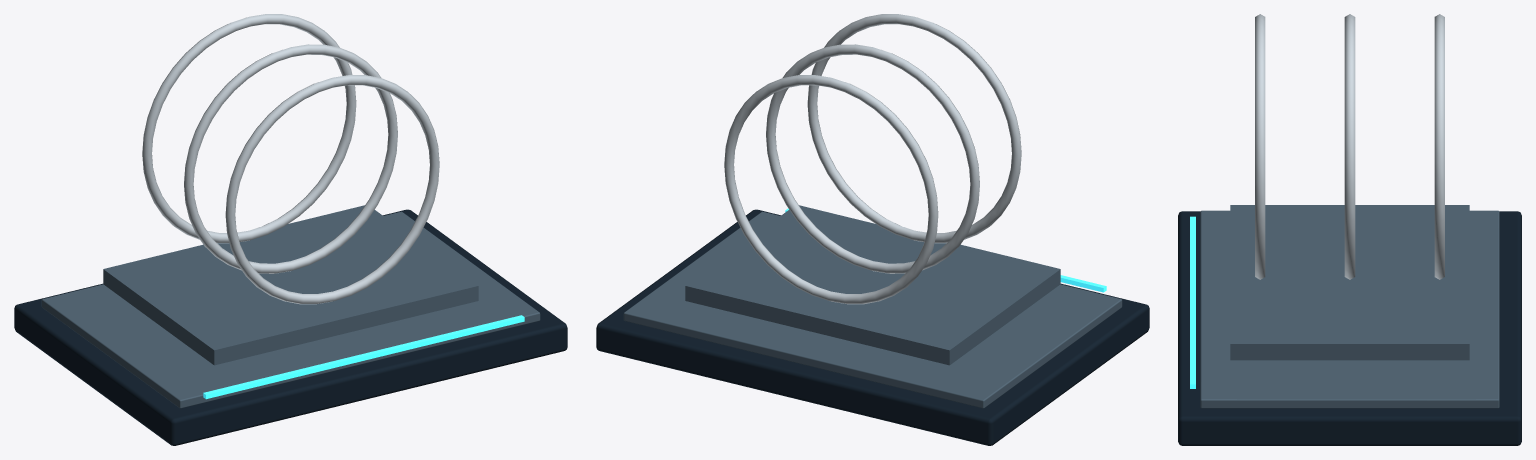
Rendered from normalization-chamber.glb.
The picture shows the model from 3 angles, left to right: view 1: azimuth 30°, elevation 25°; view 2: azimuth 150°, elevation 25°; view 3: azimuth 270°, elevation 25°; orthographic projection. The views are drawn at different scales.
Parts seen in each view (by area): view 1: channel, base, inlay, ring_2, ring_1, ring_0, status_strip; view 2: channel, base, inlay, ring_0, ring_1, ring_2; view 3: channel, inlay, base, ring_1, ring_0, ring_2, status_strip.
Boxes of the visible parts, <box> form: channel: <box>103,205,478,365</box>; base: <box>14,209,567,445</box>; inlay: <box>41,211,540,408</box>; ring_2: <box>225,75,439,304</box>; ring_1: <box>184,44,397,273</box>; ring_0: <box>142,14,356,243</box>; status_strip: <box>203,315,524,399</box>; channel: <box>685,205,1060,365</box>; base: <box>596,209,1149,445</box>; inlay: <box>623,211,1122,408</box>; ring_0: <box>724,75,938,304</box>; ring_1: <box>766,44,979,273</box>; ring_2: <box>807,14,1021,243</box>; channel: <box>1230,205,1469,360</box>; inlay: <box>1200,210,1499,408</box>; base: <box>1178,211,1521,445</box>; ring_1: <box>1344,14,1355,279</box>; ring_0: <box>1434,14,1444,279</box>; ring_2: <box>1255,14,1265,279</box>; status_strip: <box>1190,216,1195,388</box>.
Bounding box in the file's own units: 3.3 × 2.34 × 2.3.
